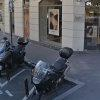Motorcycle: (22, 43, 75, 100)
